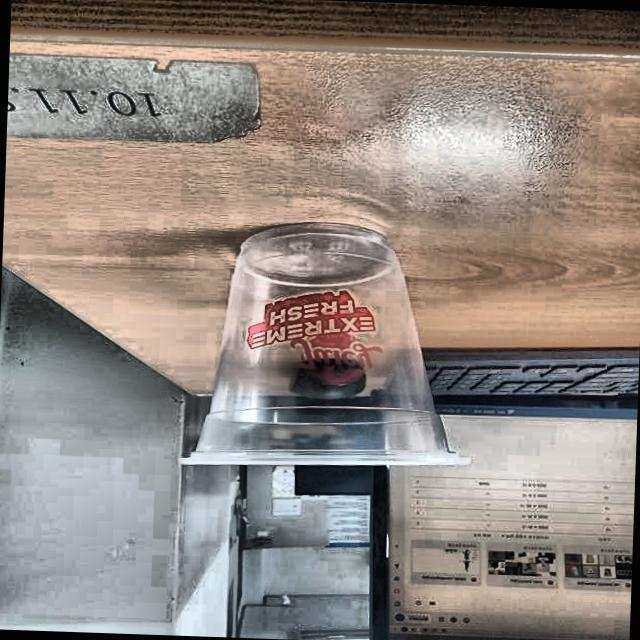plastic cup: (172, 220, 478, 477)
